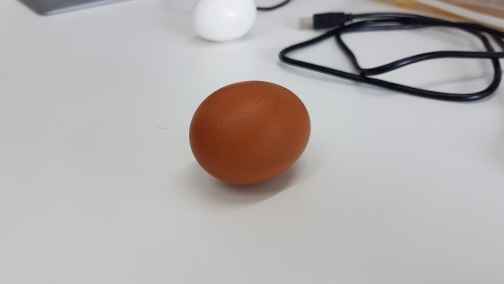egg: (189, 77, 314, 187), (189, 1, 261, 45)
